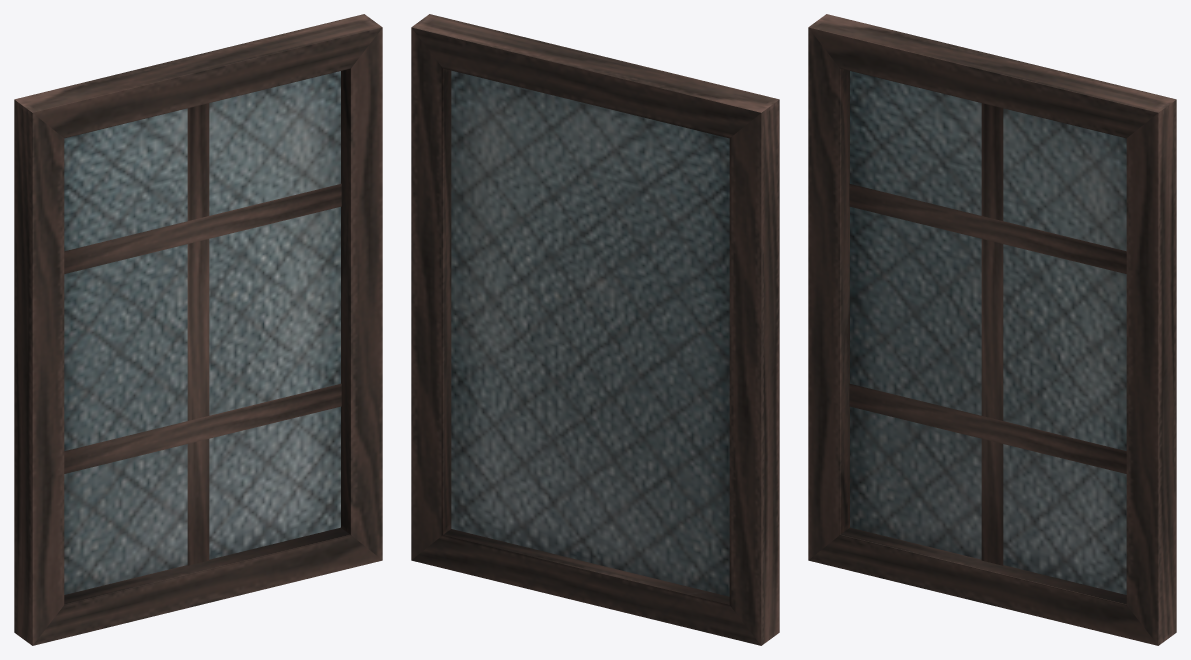
Rendered from Window_3x3.fbx.
3 renders of one model, left to right at view 1: azimuth 30°, elevation 25°; view 2: azimuth 150°, elevation 25°; view 3: azimuth 330°, elevation 25°, orthographic.
Parts seen in each view (by area): view 1: Window_3x3; view 2: Window_3x3; view 3: Window_3x3.
Boxes of the visible parts, left/top/right/bottom form: Window_3x3: left=14, top=14, right=382, bottom=645; Window_3x3: left=411, top=14, right=779, bottom=645; Window_3x3: left=808, top=14, right=1176, bottom=645.
Size of the model in its own units: 110 by 160 by 10.
